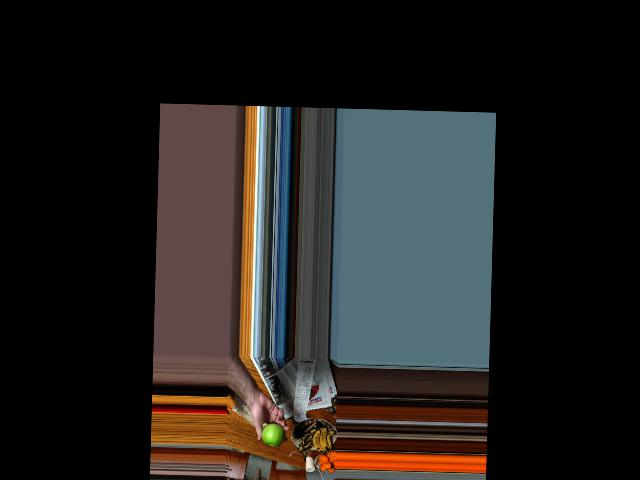apple: (261, 421, 286, 446)
